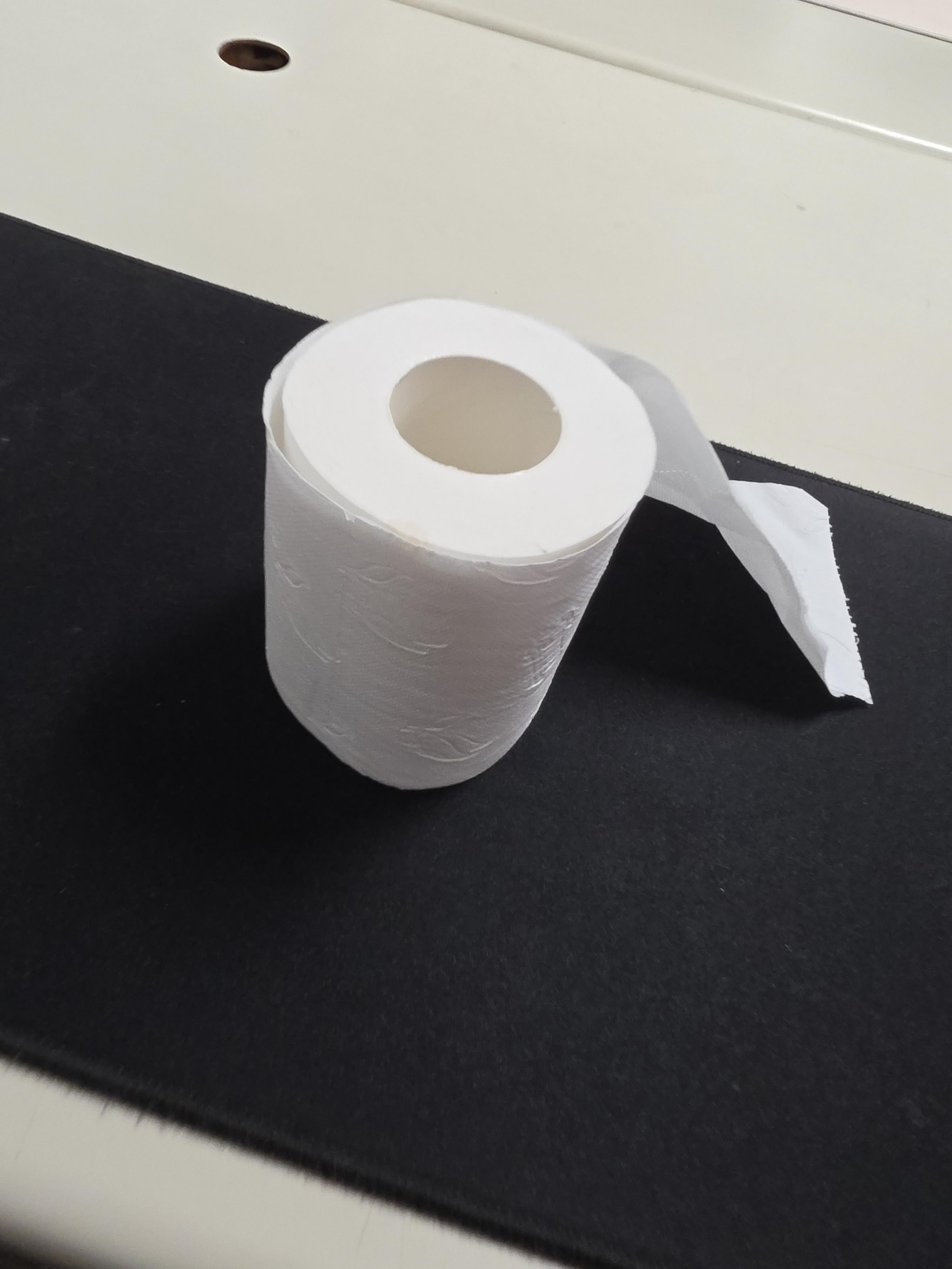tissue: (262, 299, 875, 791)
